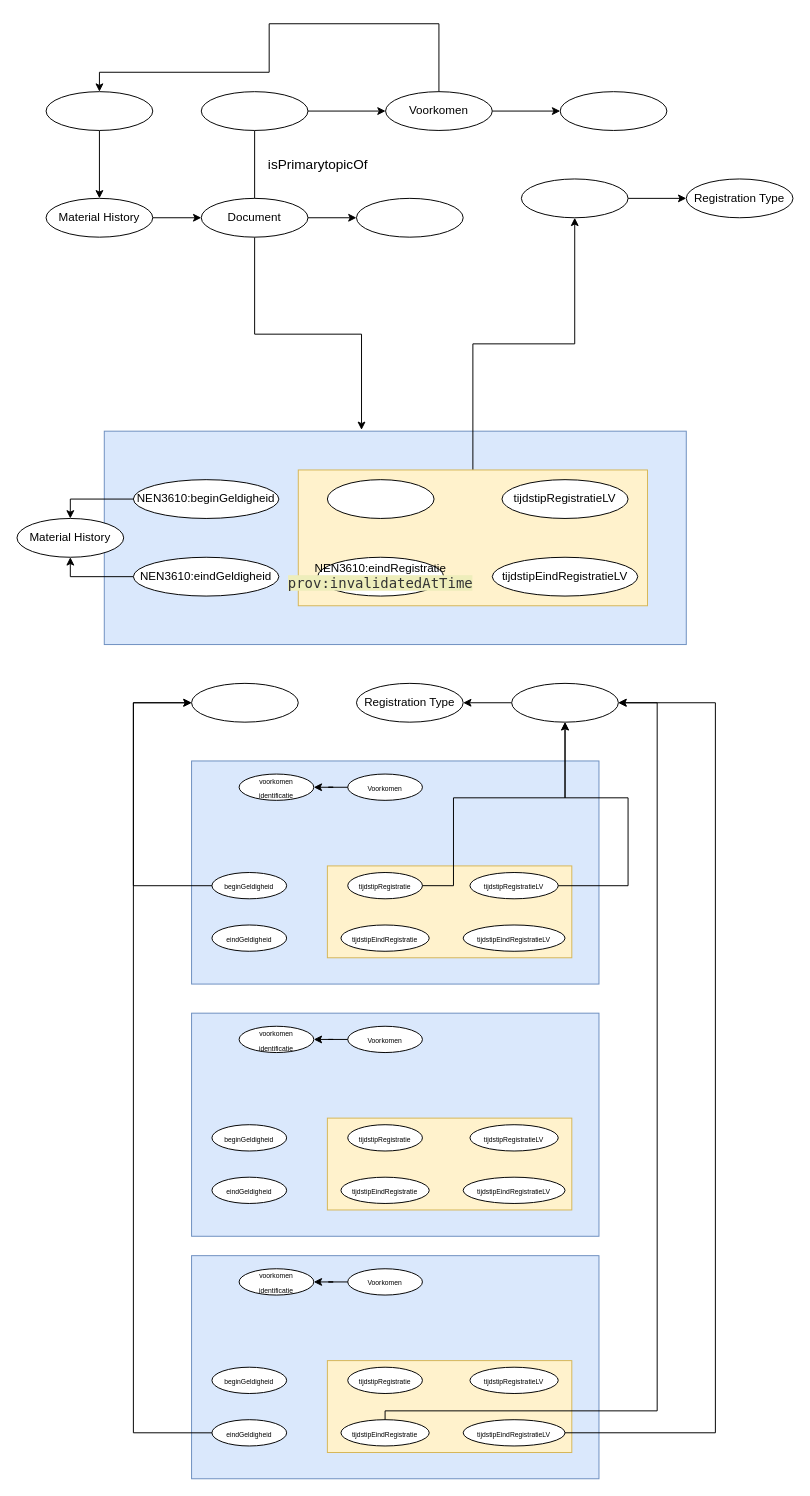
The diagram is 810 pixels wide and 1496 high, and some of its shapes have lost their labels. The centre of each missing label's shape, as x and y in pixels:
"Formal History" belongs at [574,198].
"Formal Lifecycle" belongs at [564,702].
"History" belongs at [99,110].
"Material Lifecycle" belongs at [244,702].
"NEN3610:tijdstipRegistratie prov:generatedAtTime" belongs at [380,498].
"Number" belongs at [409,217].
"Object" belongs at [254,110].
"Status" belongs at [613,110].
